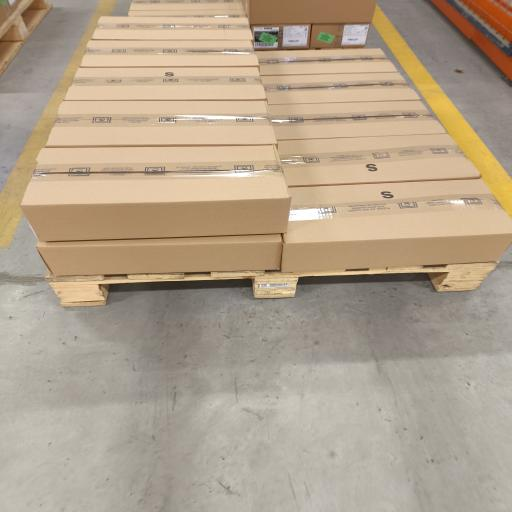pallet: (46, 262, 497, 306)
